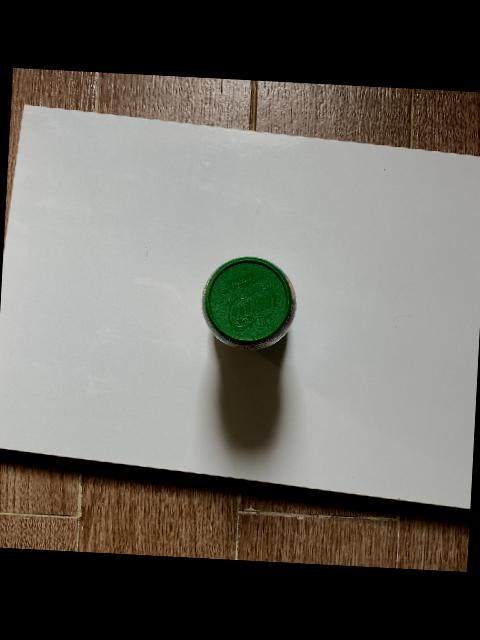milo: (199, 255, 295, 350)
